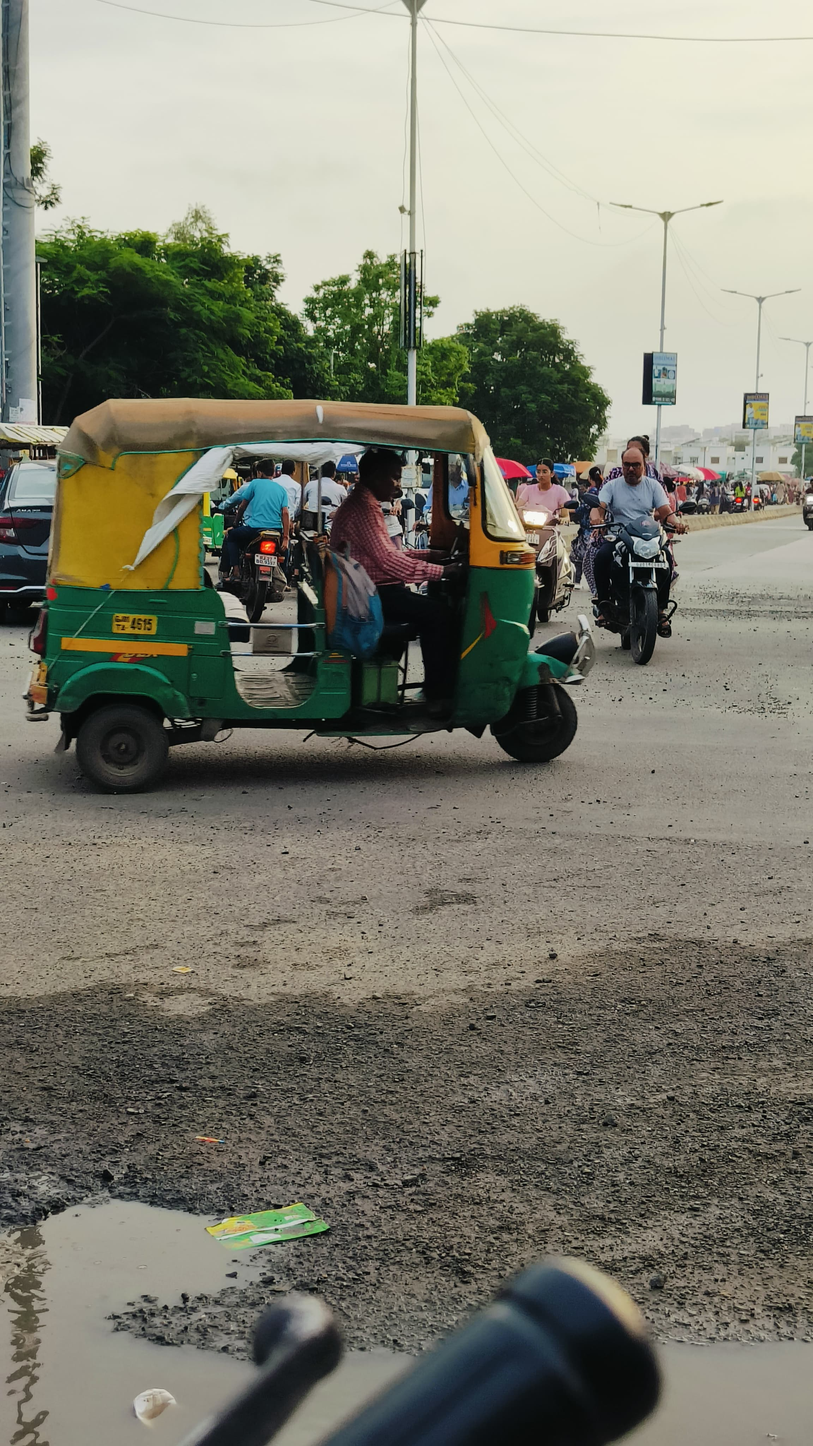BikeWithRider: (582, 431, 694, 667), (214, 458, 290, 626), (515, 457, 579, 624)
NoHelmet: (618, 445, 648, 485), (628, 432, 653, 462), (532, 461, 559, 485), (255, 458, 277, 480)
